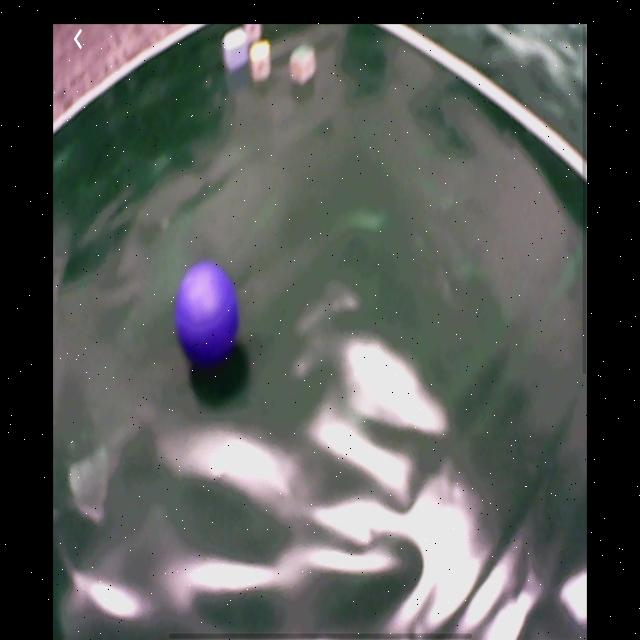ball: (174, 263, 241, 371)
